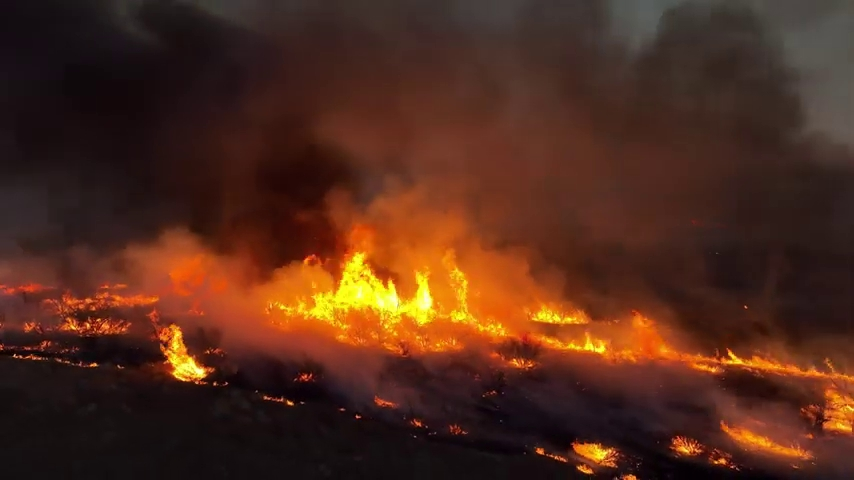forest_fire: (265, 251, 853, 381), (45, 285, 158, 334), (148, 309, 212, 382), (721, 420, 812, 460), (670, 436, 733, 465), (823, 386, 853, 433), (523, 305, 588, 325), (572, 442, 618, 467)
